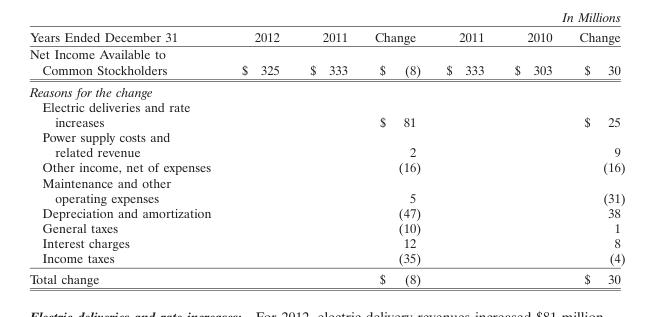table: (28, 28, 624, 285)
table column: (28, 28, 225, 285), (360, 28, 432, 285), (225, 28, 294, 285), (498, 28, 565, 285), (294, 28, 360, 285), (432, 28, 498, 285), (565, 28, 624, 285)
table column header: (28, 28, 624, 45)
table projected row header: (28, 80, 624, 98)
table row: (28, 45, 624, 80), (28, 98, 624, 129), (28, 129, 624, 159), (28, 174, 624, 204), (28, 80, 624, 98), (28, 267, 624, 285), (28, 28, 624, 45), (28, 250, 624, 267), (28, 204, 624, 220), (28, 159, 624, 174), (28, 220, 624, 235), (28, 235, 624, 250)
